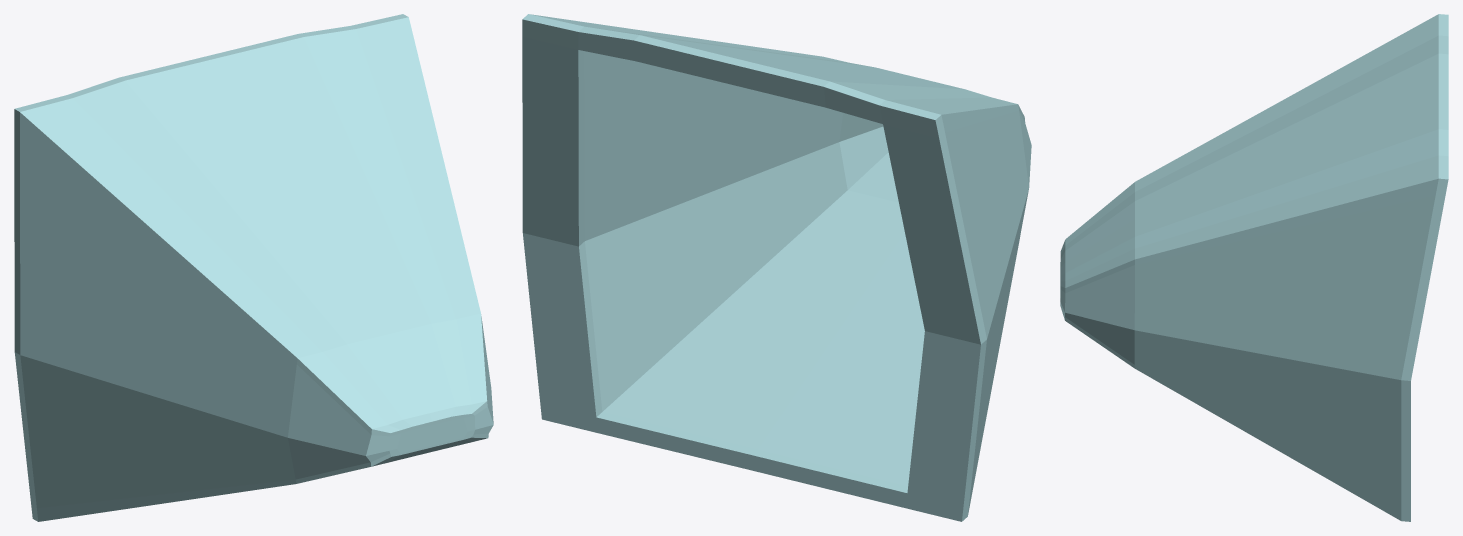
The model's file is cockpit.fbx.
3 renders of one model, left to right at view 1: azimuth 30°, elevation 25°; view 2: azimuth 150°, elevation 25°; view 3: azimuth 270°, elevation 25°, orthographic. The views are drawn at different scales.
Visible parts, largest first — view 1: cockpit; view 2: cockpit; view 3: cockpit.
Boxes of the visible parts, x1,y1,x2,y2 form: cockpit: (14,14,493,521); cockpit: (522,14,1031,521); cockpit: (1060,14,1448,521).
Size of the model in its own units: 98.33 by 87.13 by 88.33.
